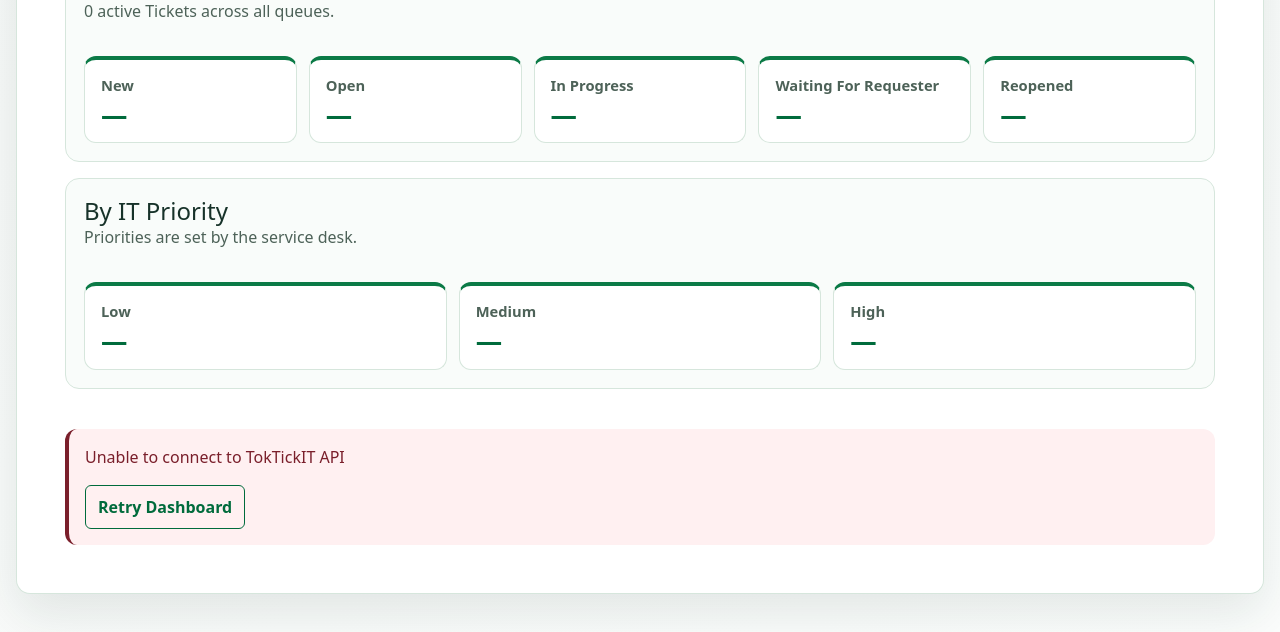
Test: Lab 4 Staff Dashboard › shows safe retry feedback and a successful zero-data state
(page scrolled)
Check: the message shows "Unable to connect to TokTickIT API", box [85, 446, 345, 468]
Click the button "Retry Dashboard".
click(165, 506)  # box [85, 484, 245, 528]
(page scrolled)
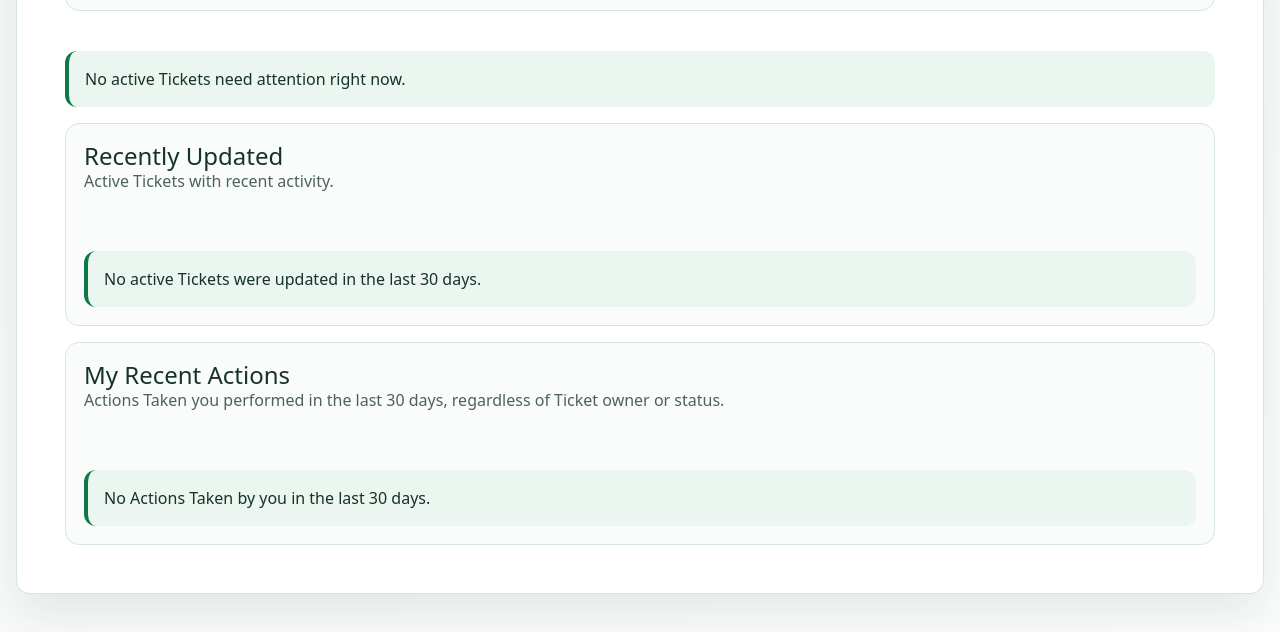
Check: the text "No active Tickets need attention right now." is shown, box [65, 50, 1215, 106]
Check: the text "No Actions Taken by you in the last 30 days." is shown, box [84, 470, 1196, 526]
